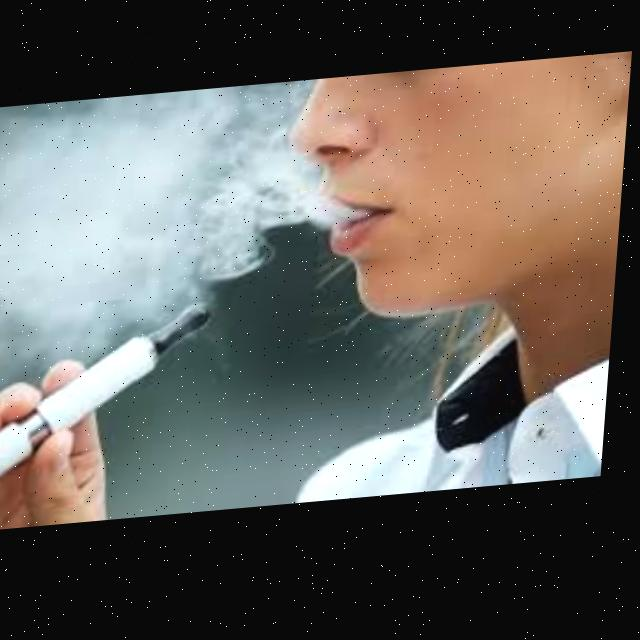vape: (0, 304, 219, 503)
